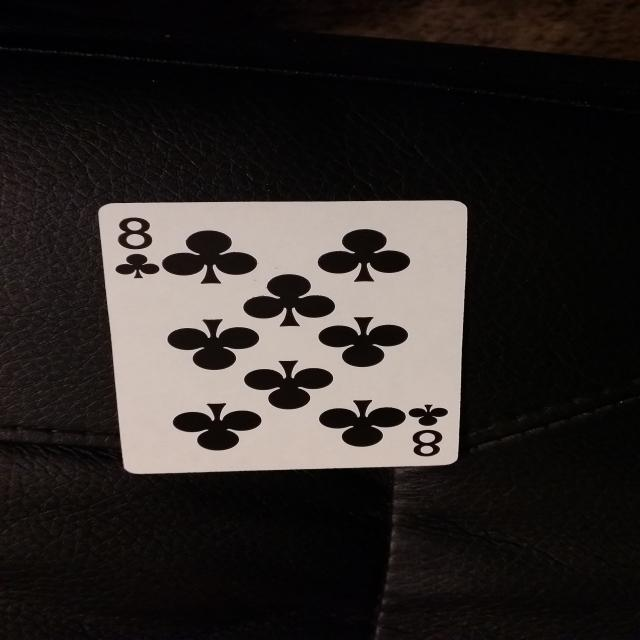8c: (102, 210, 169, 281), (396, 400, 452, 462)
